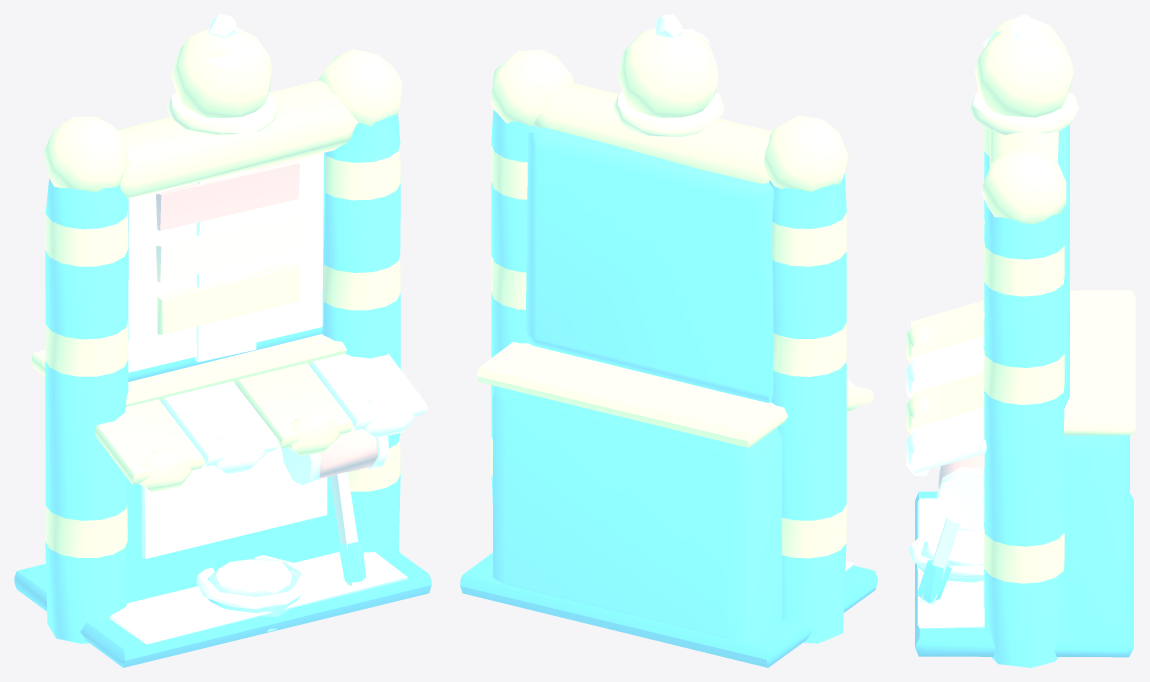
The model's file is props__CrateCracker.glb.
3 renders of one model, left to right at view 1: azimuth 30°, elevation 25°; view 2: azimuth 150°, elevation 25°; view 3: azimuth 270°, elevation 25°, orthographic.
Parts seen in each view (by area): view 1: CrateCracker; view 2: CrateCracker; view 3: CrateCracker.
Boxes of the visible parts, left/top/right/bottom form: CrateCracker: left=14, top=14, right=431, bottom=667; CrateCracker: left=460, top=14, right=877, bottom=667; CrateCracker: left=906, top=14, right=1135, bottom=667.
Bounding box in the file's own units: 11.23 × 17.87 × 6.52.
